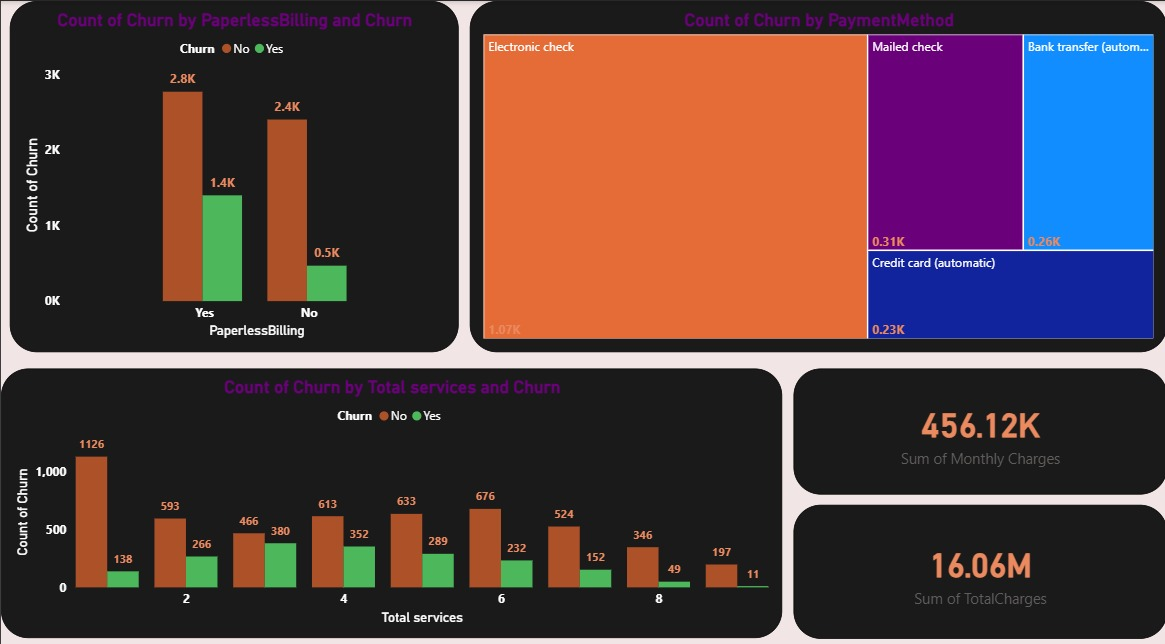

The dashboard page shown, as its layout file describes it:
{"tool":"powerbi","page":{"name":"Page 2","canvas":[1280,720],"ordinal":1},"visuals":[{"type":"clusteredColumnChart","fields":{"Series":["Cutomer_churn_analysis.Churn"],"Category":["Cutomer_churn_analysis.PaperlessBilling"],"Y":["CountNonNull(Cutomer_churn_analysis.Churn)"]},"box":[9.6,0,492.6,385.6],"z":0},{"type":"treemap","fields":{"Values":["CountNonNull(Cutomer_churn_analysis.Churn)"],"Details":["Cutomer_churn_analysis.PaymentMethod"]},"box":[514.3,0,765.7,385.7],"z":1000},{"type":"clusteredColumnChart","fields":{"Category":["Cutomer_churn_analysis.Total services"],"Series":["Cutomer_churn_analysis.Churn"],"Y":["CountNonNull(Cutomer_churn_analysis.Churn)"]},"box":[0,403.4,857.6,296.4],"z":2000},{"type":"card","fields":{"Values":["Sum(Cutomer_churn_analysis.MonthlyCharges)"]},"box":[870,403.4,410.3,138.6],"z":3000},{"type":"card","fields":{"Values":["Sum(Cutomer_churn_analysis.TotalCharges)"]},"box":[870,553,410.3,146.8],"z":4000}]}

Visuals, with their boxes in screenshot pixels (x1, y1, x2, y2), scaled from the page's 1280x720 canvas onto the 1165x644 screenshot:
clusteredColumnChart - Cutomer_churn_analysis.Churn x Cutomer_churn_analysis.PaperlessBilling: crop(9, 0, 457, 345)
treemap - CountNonNull(Cutomer_churn_analysis.Churn) x Cutomer_churn_analysis.PaymentMethod: crop(468, 0, 1164, 345)
clusteredColumnChart - Cutomer_churn_analysis.Total services x Cutomer_churn_analysis.Churn: crop(0, 361, 781, 626)
card - Sum(Cutomer_churn_analysis.MonthlyCharges): crop(792, 361, 1164, 485)
card - Sum(Cutomer_churn_analysis.TotalCharges): crop(792, 495, 1164, 626)
